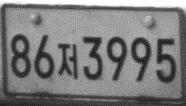3: (81, 35, 104, 81)
5: (155, 37, 177, 83)
6: (33, 33, 55, 78)
8: (10, 33, 32, 79)
9: (105, 35, 128, 81), (130, 35, 152, 82)
저: (56, 42, 79, 81)
